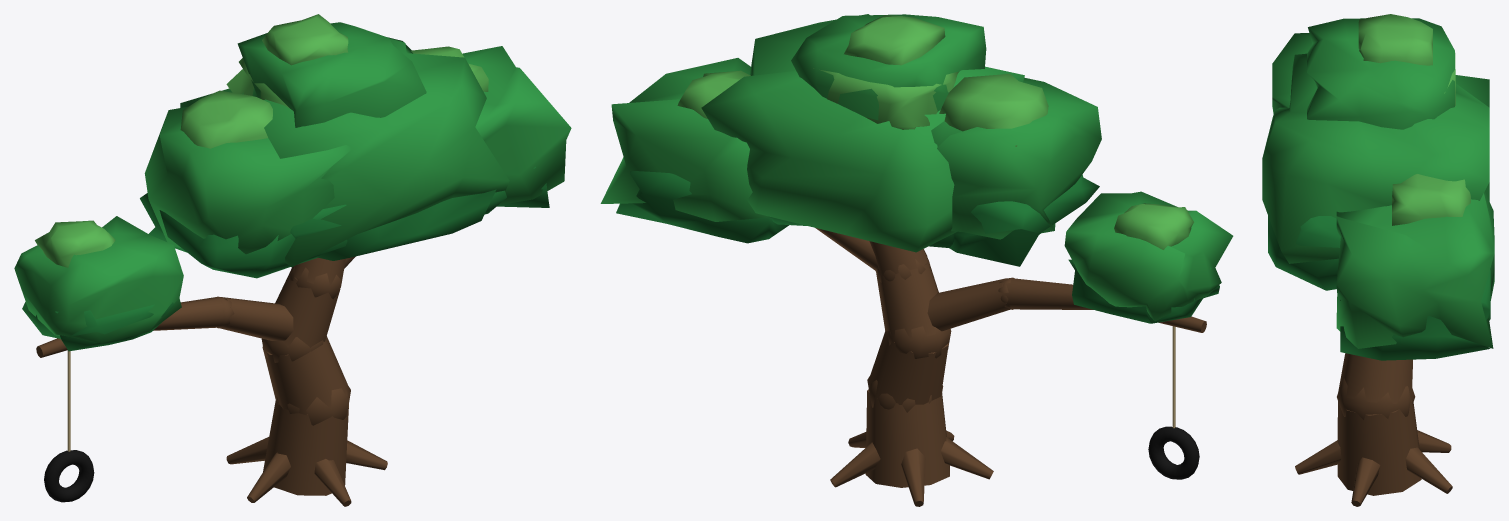
Rendered from tf-tree.glb.
The picture shows the model from 3 angles, left to right: view 1: azimuth 30°, elevation 25°; view 2: azimuth 150°, elevation 25°; view 3: azimuth 270°, elevation 25°; orthographic projection.
Parts seen in each view (by area): view 1: tf-tree; view 2: tf-tree; view 3: tf-tree.
Part boxes in pixels (bbox=[...]): tf-tree: bbox=[14, 14, 571, 506]; tf-tree: bbox=[600, 14, 1233, 506]; tf-tree: bbox=[1262, 14, 1494, 506].
Bounding box in the file's own units: 12.51 × 10.13 × 4.7.
